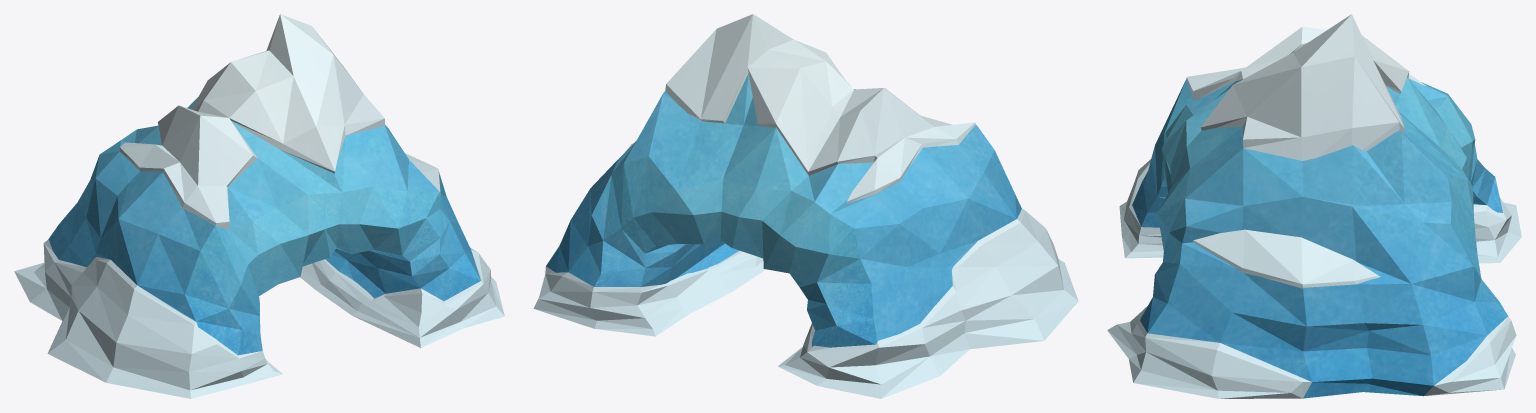
File: HX-Bingdong1.FBX
3 views of the same model, side by side, from view 1: azimuth 30°, elevation 25°; view 2: azimuth 150°, elevation 25°; view 3: azimuth 270°, elevation 25° (orthographic). The views are drawn at different scales.
Parts seen in each view (by area): view 1: jixue4, bingdong1; view 2: bingdong1, jixue4; view 3: bingdong1, jixue4.
Boxes of the visible parts, left/top/right/bottom form: jixue4: left=14, top=14, right=504, bottom=398; bingdong1: left=48, top=97, right=480, bottom=355; bingdong1: left=546, top=73, right=1021, bottom=347; jixue4: left=533, top=14, right=1078, bottom=398; bingdong1: left=1132, top=77, right=1507, bottom=398; jixue4: left=1107, top=14, right=1521, bottom=398.
Bounding box in the file's own units: 17046 × 10370 × 13077.
